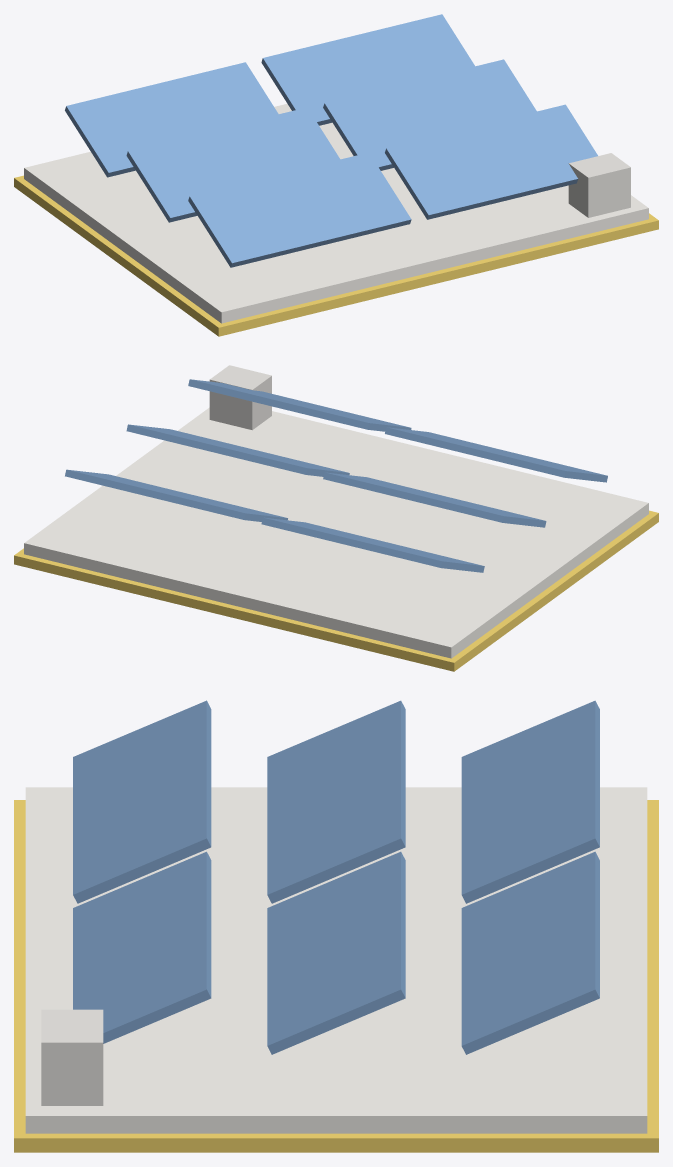
The model's file is solar_low.glb.
3 renders of one model, top to bottom at view 1: azimuth 30°, elevation 25°; view 2: azimuth 150°, elevation 25°; view 3: azimuth 270°, elevation 25°, orthographic. The views are drawn at different scales.
Parts seen in each view (by area): view 1: panel, base, rim_f0b429, concrete; view 2: base, panel, rim_f0b429, concrete; view 3: panel, base, rim_f0b429, concrete.
Part boxes in pixels (box(x1,y1,x2,y2)): panel: box(65, 14, 597, 267); base: box(24, 103, 648, 323); rim_f0b429: box(14, 175, 658, 336); concrete: box(568, 153, 630, 217); base: box(24, 407, 648, 658); panel: box(65, 379, 607, 572); rim_f0b429: box(14, 510, 658, 671); concrete: box(209, 365, 271, 430); panel: box(73, 700, 599, 1054); base: box(25, 787, 647, 1133); rim_f0b429: box(14, 800, 658, 1152); concrete: box(41, 1009, 103, 1105).
Bounding box in the file's own units: 10.3 × 1.96 × 8.3.
